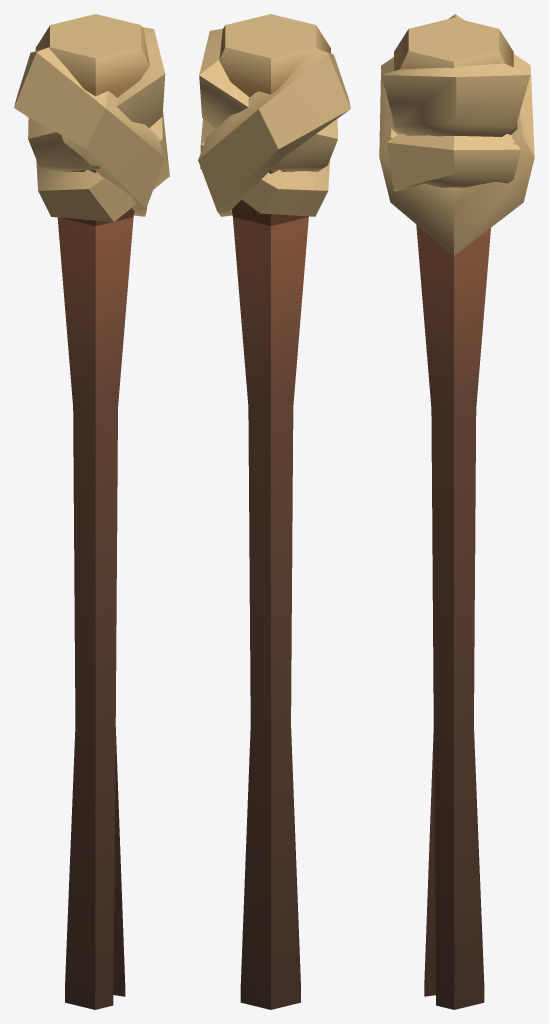
File: Torch_1A.FBX
The picture shows the model from 3 angles, left to right: view 1: azimuth 30°, elevation 25°; view 2: azimuth 150°, elevation 25°; view 3: azimuth 270°, elevation 25°; orthographic projection.
Visible parts, largest first — view 1: Torch_1A; view 2: Torch_1A; view 3: Torch_1A.
Part boxes in pixels (<box>): Torch_1A: <box>14,14,169,1009</box>; Torch_1A: <box>198,14,350,1009</box>; Torch_1A: <box>379,14,534,1009</box>.
Bounding box in the file's own units: 0.1105 × 0.6802 × 0.1002.
